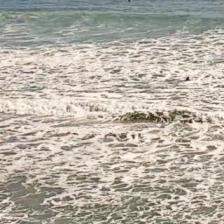surfer: (183, 76, 190, 82), (126, 0, 132, 3)
